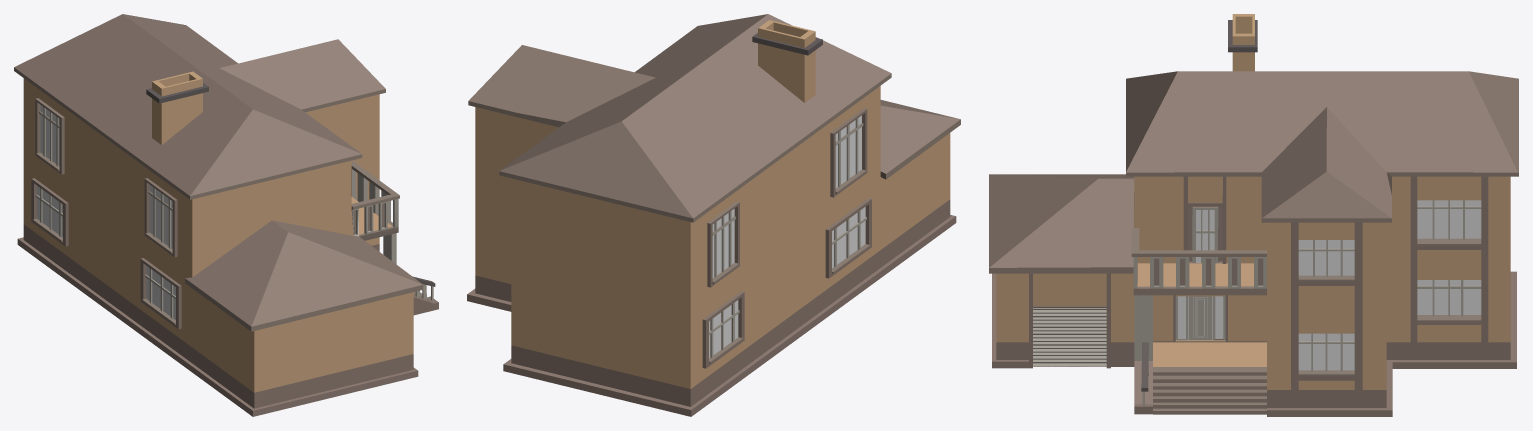
File: GdeMorozova.fbx
The picture shows the model from 3 angles, left to right: view 1: azimuth 30°, elevation 25°; view 2: azimuth 150°, elevation 25°; view 3: azimuth 270°, elevation 25°; orthographic projection. The views are drawn at different scales.
Visible parts, largest first — view 1: Cube.001; view 2: Cube.001; view 3: Cube.001.
Part boxes in pixels (x1,y1,x2,y2): Cube.001: (14, 14, 438, 416); Cube.001: (467, 14, 960, 416); Cube.001: (989, 14, 1518, 416).
Bounding box in the file's own units: 1291 × 1175 × 2063.
